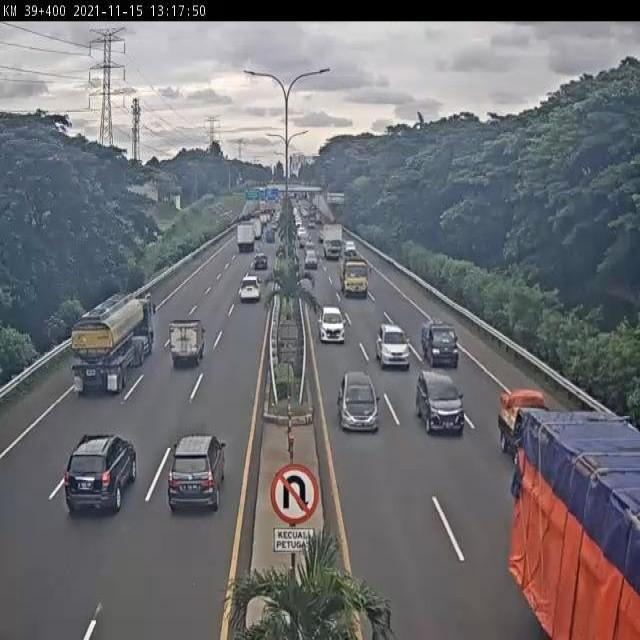car: (65, 432, 137, 513), (167, 432, 226, 511), (415, 368, 465, 435), (337, 372, 382, 435), (377, 322, 411, 369), (319, 304, 347, 345), (240, 275, 261, 301)
small truck: (497, 388, 556, 469)
truck-m-: (339, 256, 375, 297)
truck-s-: (421, 318, 461, 371), (169, 318, 206, 366)
truck-xl-: (69, 292, 156, 395)
